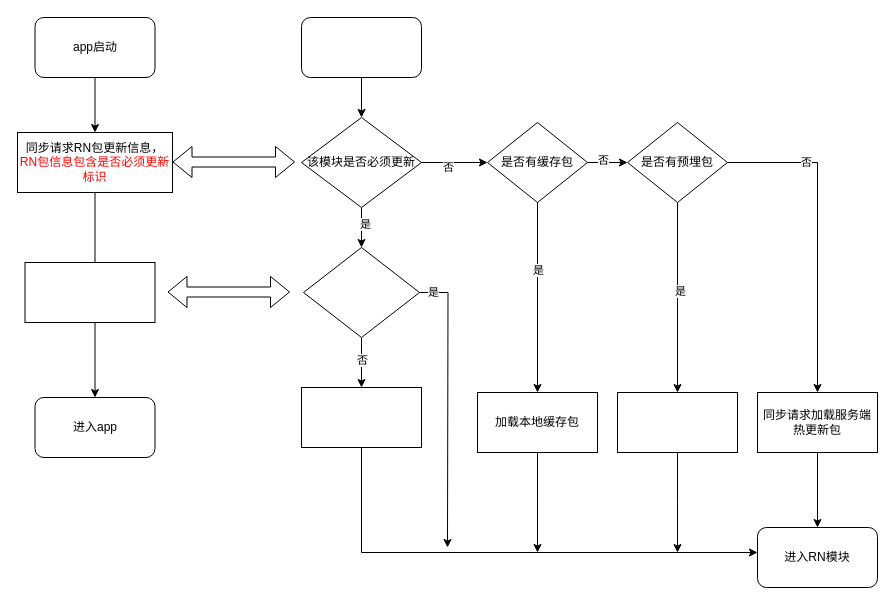
The diagram is 895 pixels wide and 605 high, and some of its shapes have lost their labels. The shapes that lost their labels are listed below. From the top down, each one's centre as x and y in pixels, then its label:
(x=361, y=47): 打开RN模块
(x=89, y=292): 异步加载需要更新的RN包
(x=361, y=292): 该模块RN包下载任务是否完成
(x=361, y=417): 等待该模块的热更新包加载完成
(x=677, y=422): 加载本地预埋包
